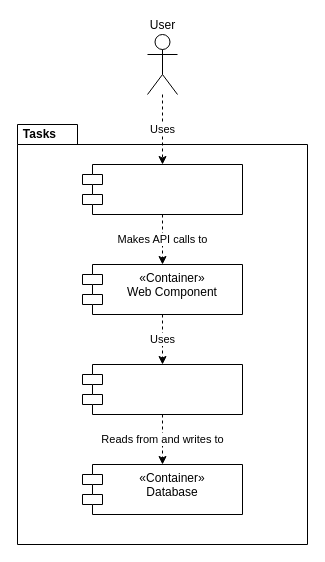
The diagram is 325 pixels wide and 562 high, and some of its shapes have lost their labels. Here are the shapes that lost their labels. From the top down, the centre of each, then its label:
At point (162, 189): "«Container» Single-Page Application".
At point (162, 389): "«Container» Domain Component".
